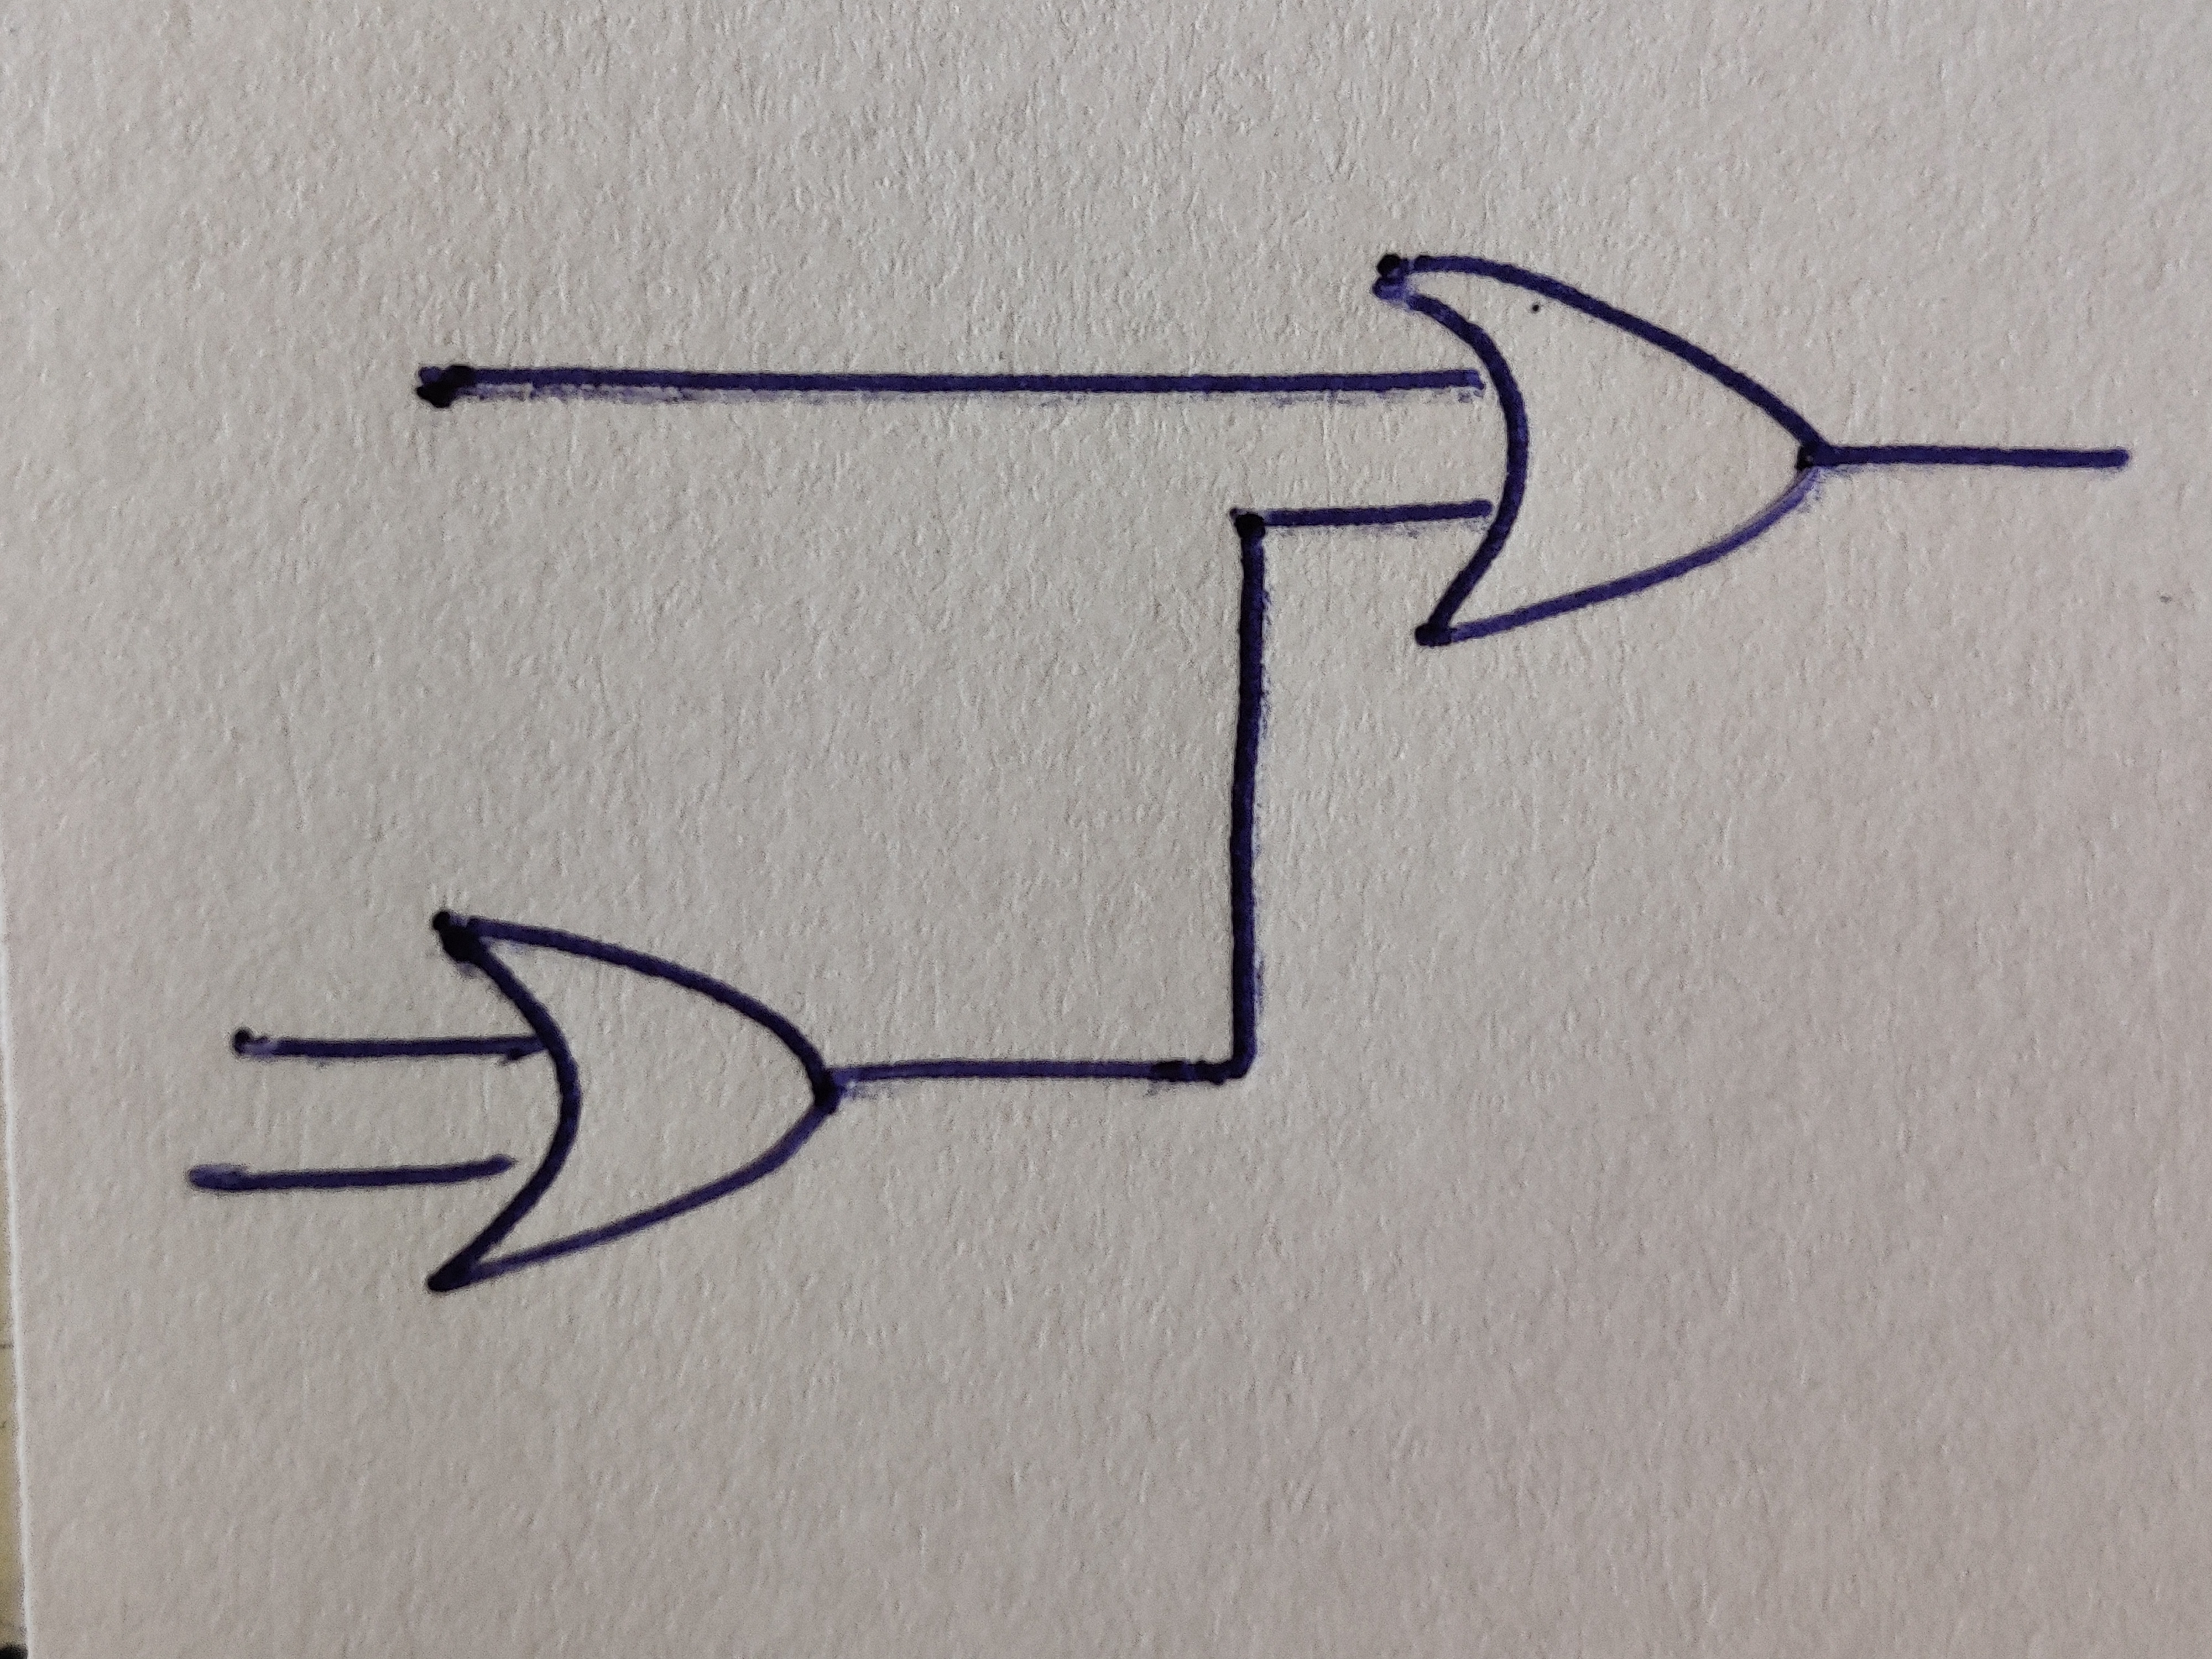or: (1371, 253, 1834, 647), (427, 911, 843, 1293)
